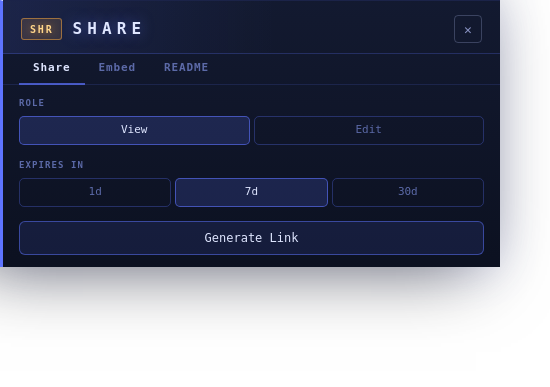
Test: ShareDialog – generate flow › keeps the generic message when the server sends none
Click the button with class "share-generate-btn".
click(252, 238)  # box x1=19 y1=220 x2=484 y2=254
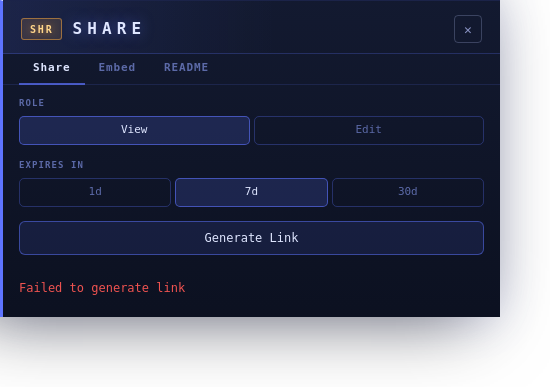
expect the text "Failed to generate link" is shown: met, box x1=19 y1=280 x2=185 y2=294
